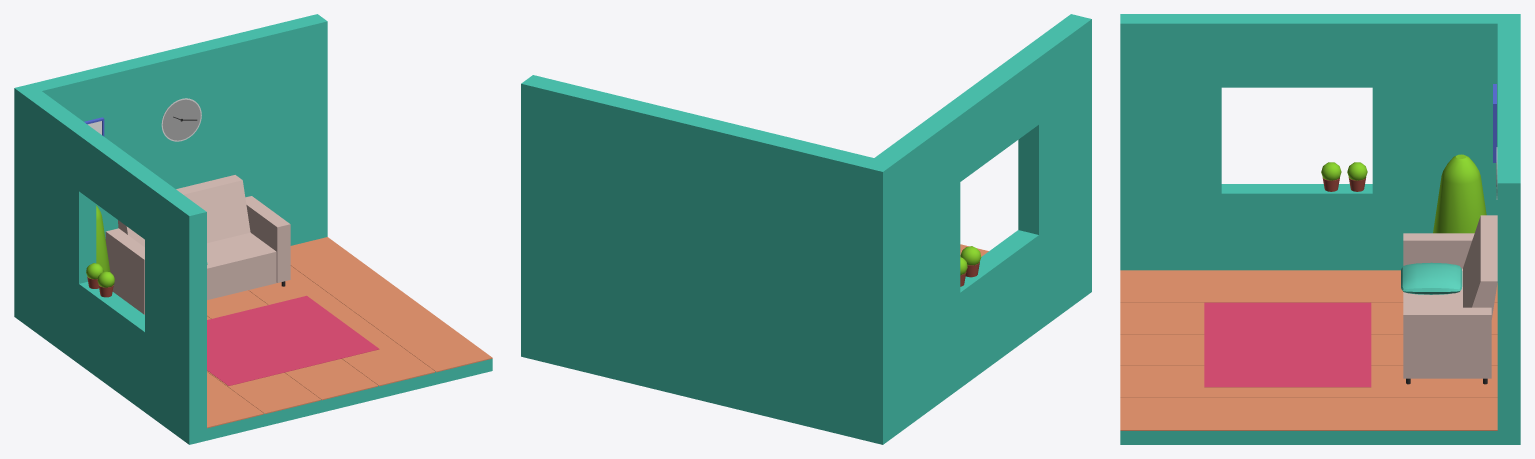
Rendered from Office.fbx.
The picture shows the model from 3 angles, left to right: view 1: azimuth 30°, elevation 25°; view 2: azimuth 150°, elevation 25°; view 3: azimuth 270°, elevation 25°; orthographic projection. The views are drawn at different scales.
Visible parts, largest first — view 1: Room, Floor, Couch, Mat, Clock, Big Plant; view 2: Room; view 3: Room, Floor, Mat, Couch, Big Plant, Cushion, Small Plant 1, Small Plant 2.
Part boxes in pixels (bbox=[...]): Room: bbox=[14, 14, 492, 444]; Floor: bbox=[207, 237, 492, 428]; Couch: bbox=[105, 175, 290, 314]; Mat: bbox=[207, 295, 379, 385]; Clock: bbox=[161, 98, 201, 141]; Big Plant: bbox=[96, 205, 110, 271]; Room: bbox=[521, 14, 1091, 444]; Room: bbox=[1120, 14, 1520, 444]; Floor: bbox=[1120, 270, 1497, 430]; Mat: bbox=[1204, 302, 1371, 387]; Couch: bbox=[1403, 215, 1497, 384]; Big Plant: bbox=[1433, 154, 1486, 233]; Cushion: bbox=[1401, 262, 1462, 294]; Small Plant 1: bbox=[1347, 162, 1367, 191]; Small Plant 2: bbox=[1321, 162, 1341, 191].
Size of the model in its own units: 304 by 219 by 304.
